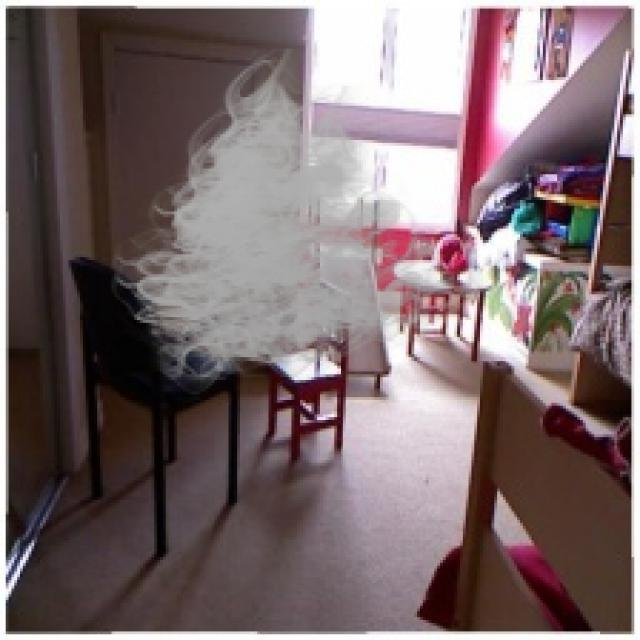Smoke: (100, 48, 489, 403)
